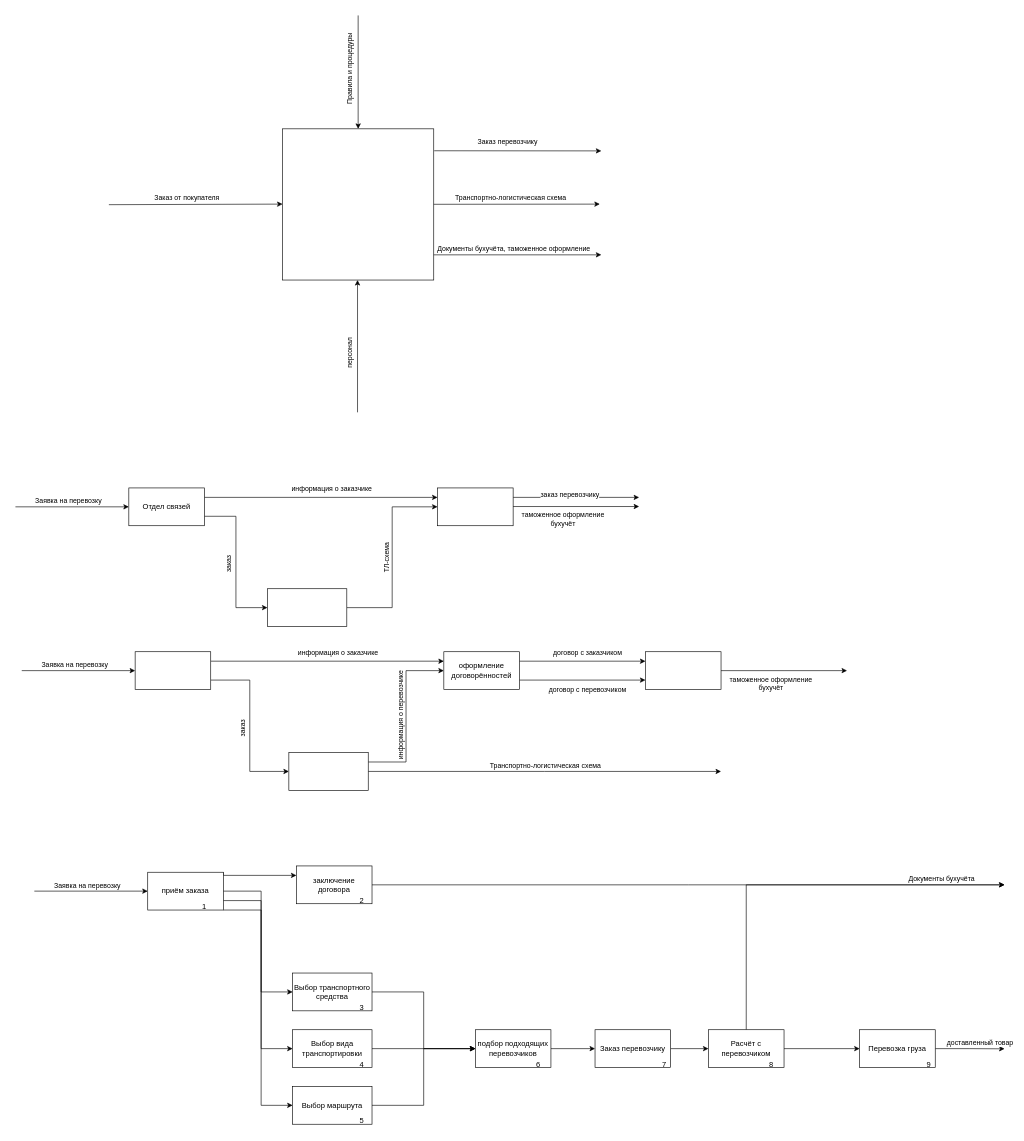
This 1024x1141 diagram has some shape labels left out. The centre of each missing label's shape, as x and y in pixels:
Бухгалтерский отдел: pixel 475 506
Логистический отдел: pixel 307 607
ОРГАНИЗАЦИЯ ДЕЯТЕЛЬНОСТИ ТРАНСПОРТНО-ЛОГИСТИЧЕСКОЙ КОМПАНИИ: pixel 358 204
Работа с клиентами: pixel 173 670
Разработка транспортно-логистической схемы: pixel 328 771
расчёт с участниками: pixel 683 670
